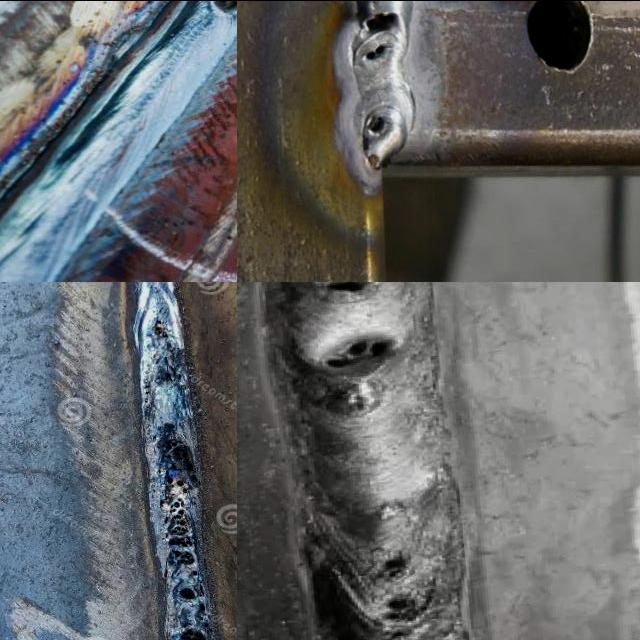defect: (156, 434, 216, 612), (316, 330, 404, 373), (379, 588, 421, 637), (373, 546, 421, 582), (361, 4, 401, 32), (316, 281, 389, 296), (363, 40, 391, 64), (149, 316, 176, 340), (176, 623, 209, 640), (209, 0, 237, 16), (366, 112, 386, 134)
